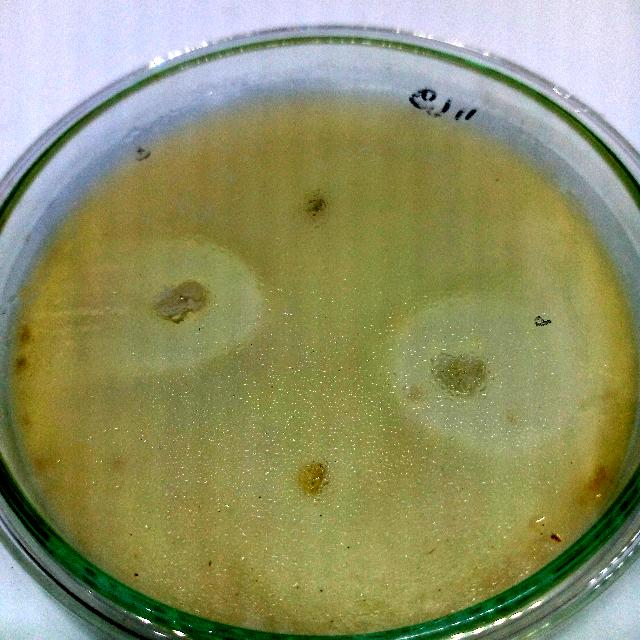colony: (428, 344, 492, 406), (156, 277, 212, 323), (290, 454, 334, 504), (302, 190, 334, 220)
